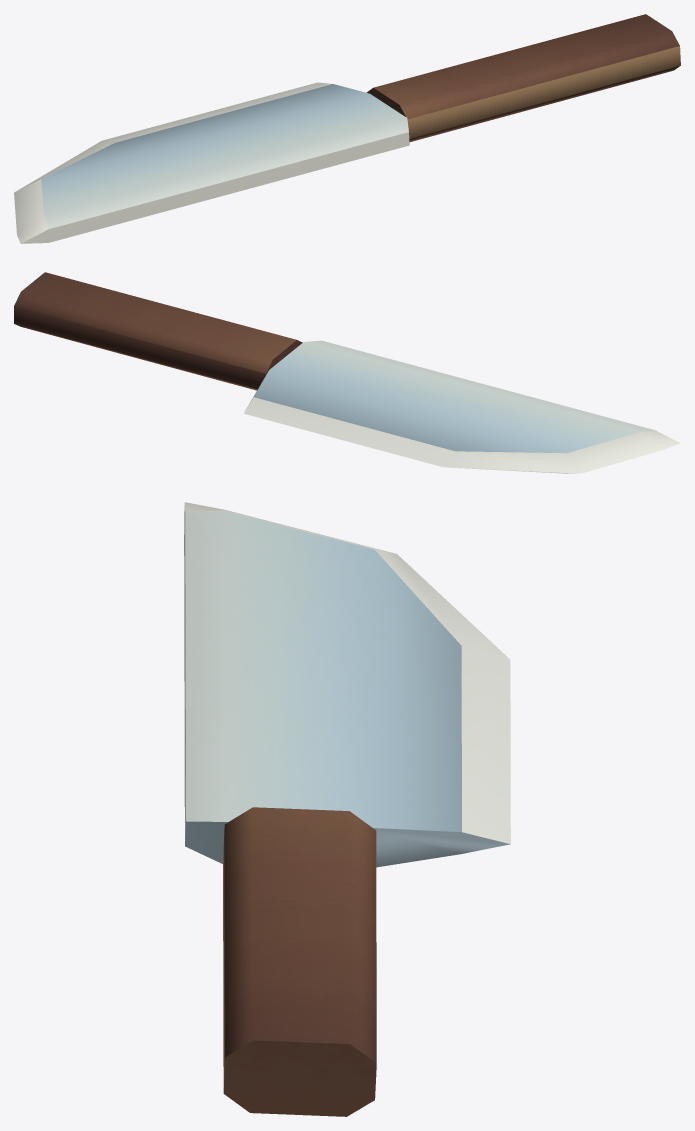
File: knife_B.fbx
3 renders of one model, top to bottom at view 1: azimuth 30°, elevation 25°; view 2: azimuth 150°, elevation 25°; view 3: azimuth 270°, elevation 25°, orthographic. The views are drawn at different scales.
Visible parts, largest first — view 1: knife_lying_flat; view 2: knife_lying_flat; view 3: knife_lying_flat.
Boxes of the visible parts, left/top/right/bottom form: knife_lying_flat: left=14, top=14, right=680, bottom=243; knife_lying_flat: left=14, top=272, right=680, bottom=473; knife_lying_flat: left=184, top=502, right=510, bottom=1116.
Bounding box in the file's own units: 40.51 × 2.83 × 9.25.
